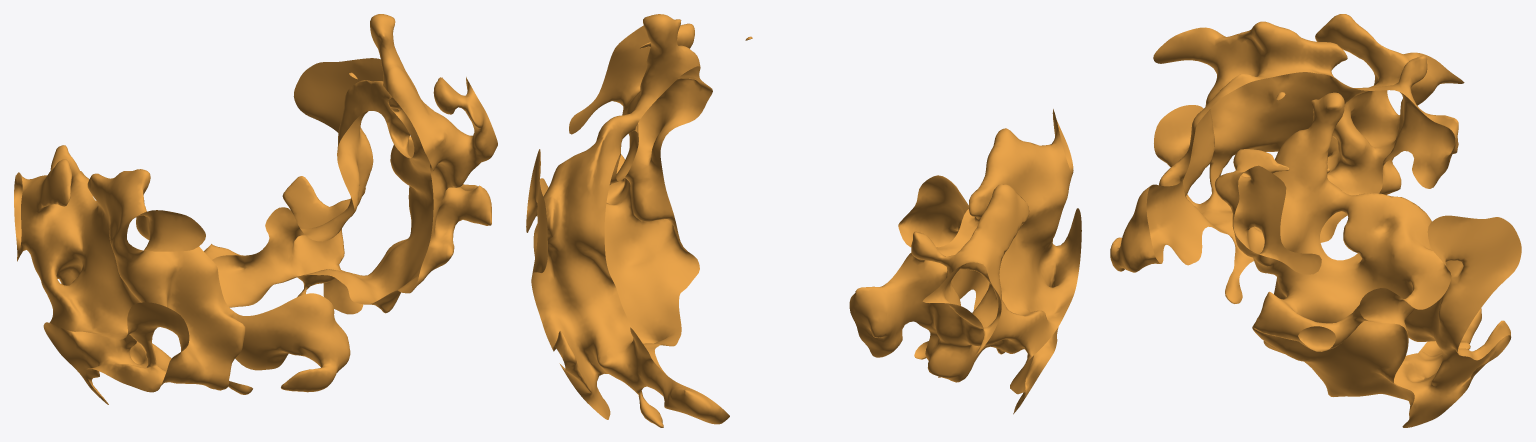
File: llsvp.fbx
3 renders of one model, left to right at view 1: azimuth 30°, elevation 25°; view 2: azimuth 150°, elevation 25°; view 3: azimuth 270°, elevation 25°, orthographic. The views are drawn at different scales.
Visible parts, largest first — view 1: Llsvp; view 2: Llsvp; view 3: Llsvp.
Part boxes in pixels (x1,y1,x2,y2): Llsvp: (14,14,497,404); Llsvp: (526,14,1081,427); Llsvp: (1110,14,1521,427).
Bounding box in the file's own units: 973 × 723 × 816.
